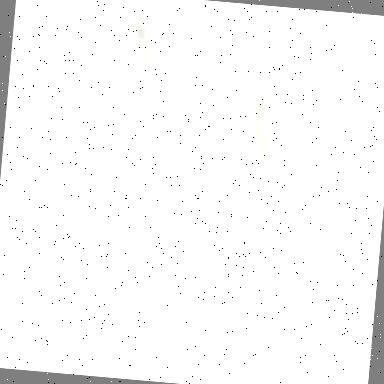abw: (190, 144, 256, 242), (125, 12, 182, 96), (116, 294, 178, 370), (233, 48, 280, 124), (272, 246, 329, 306), (284, 220, 342, 278), (246, 96, 288, 176), (68, 244, 128, 296)
